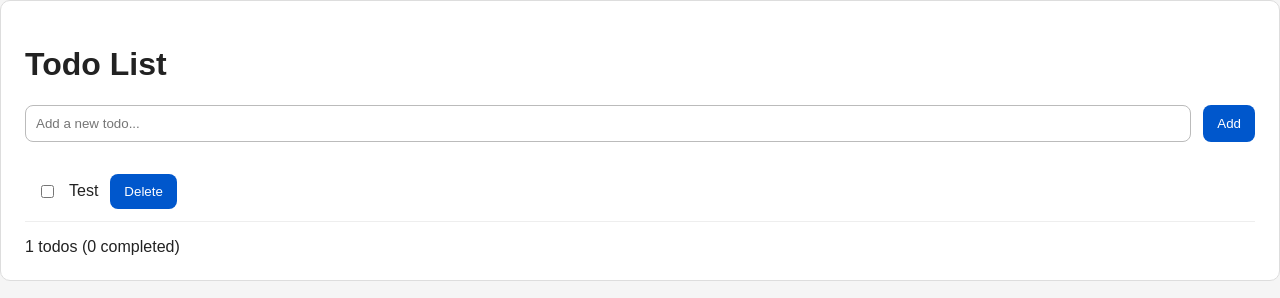
Scenario: TodoList Component › Toggling todos › toggles todo completion status
This screenshot has width=1280, height=298.
What coordinates should you click on to do the following:
click the checkbox with test id "todo-checkbox"
I would click on:
 (48, 191)
Its box is [41,185,54,198].
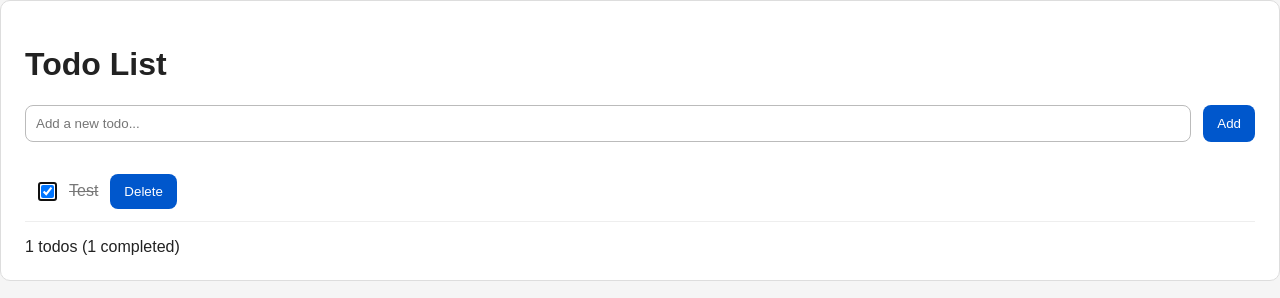
Check: the text "1 todos (1 completed)" is shown, box [25,238,180,255]
